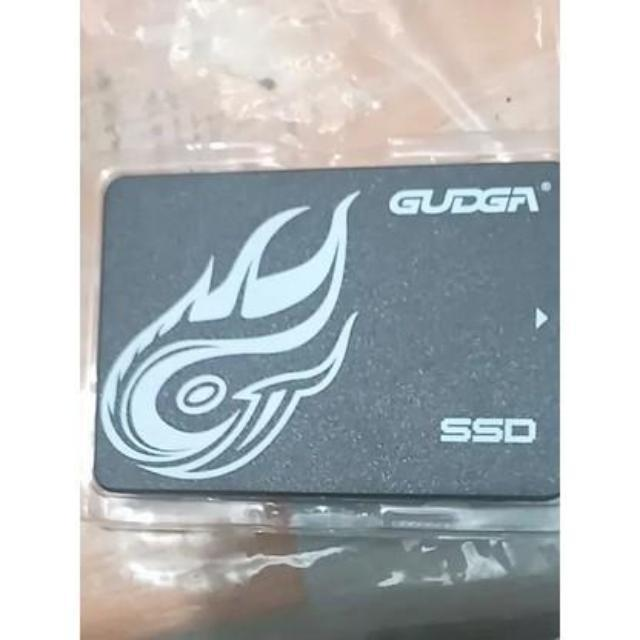DISK: (87, 160, 559, 515)
